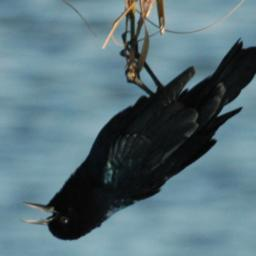Crow: (22, 31, 256, 241)
